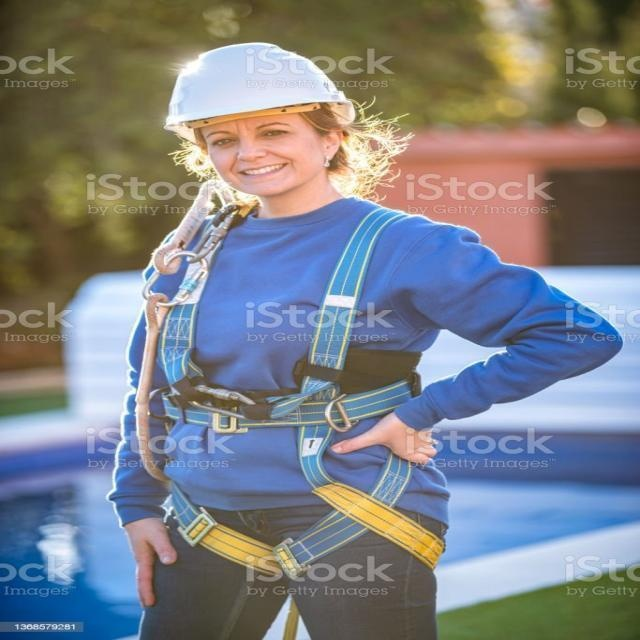Arnes_seguridad: (150, 199, 450, 580)
